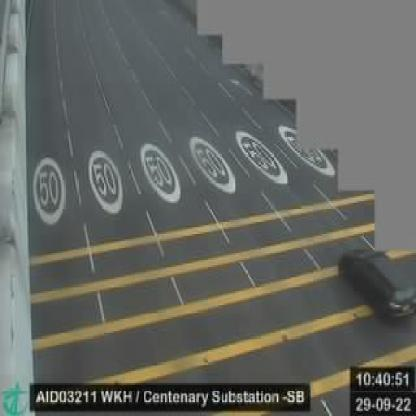Car: (334, 241, 415, 333)
